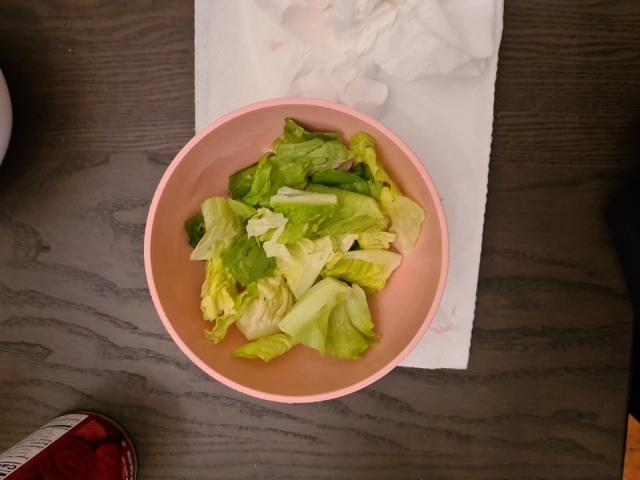kichen waste: (184, 117, 402, 359)
